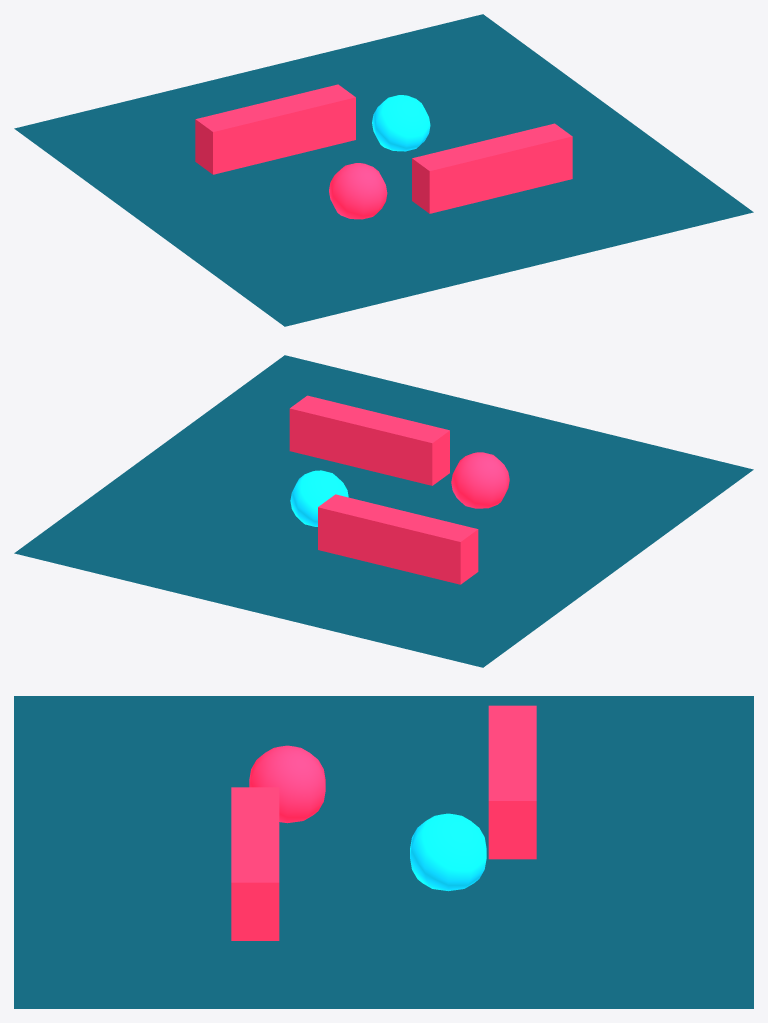
Rendered from atl_03.glb.
3 renders of one model, top to bottom at view 1: azimuth 30°, elevation 25°; view 2: azimuth 150°, elevation 25°; view 3: azimuth 270°, elevation 25°, orthographic. The views are drawn at different scales.
Parts seen in each view (by area): view 1: scenario_base_floor, ATL_03; view 2: scenario_base_floor, ATL_03; view 3: scenario_base_floor, ATL_03.
Part boxes in pixels (x1,y1,x2,y2): scenario_base_floor: [14, 14, 753, 326]; ATL_03: [195, 84, 572, 219]; scenario_base_floor: [14, 355, 753, 667]; ATL_03: [289, 395, 509, 584]; scenario_base_floor: [14, 696, 753, 1008]; ATL_03: [231, 705, 536, 940].
Size of the model in its own units: 46 by 5 by 46.
